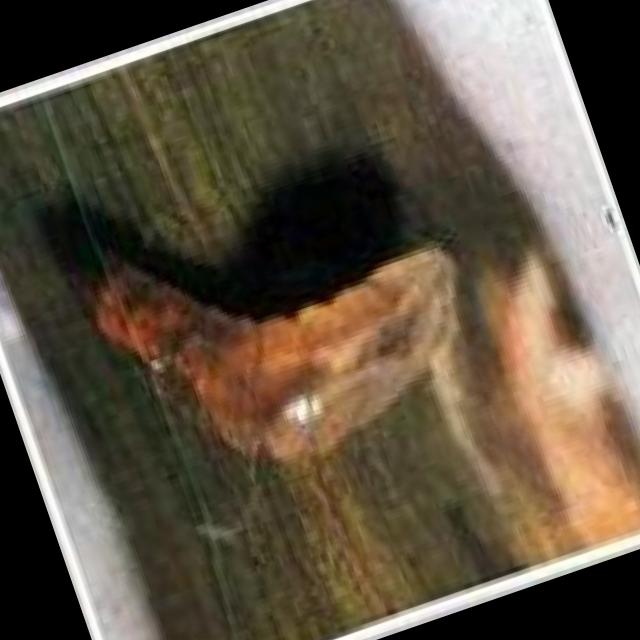whorl-maggot: (87, 239, 464, 460)
